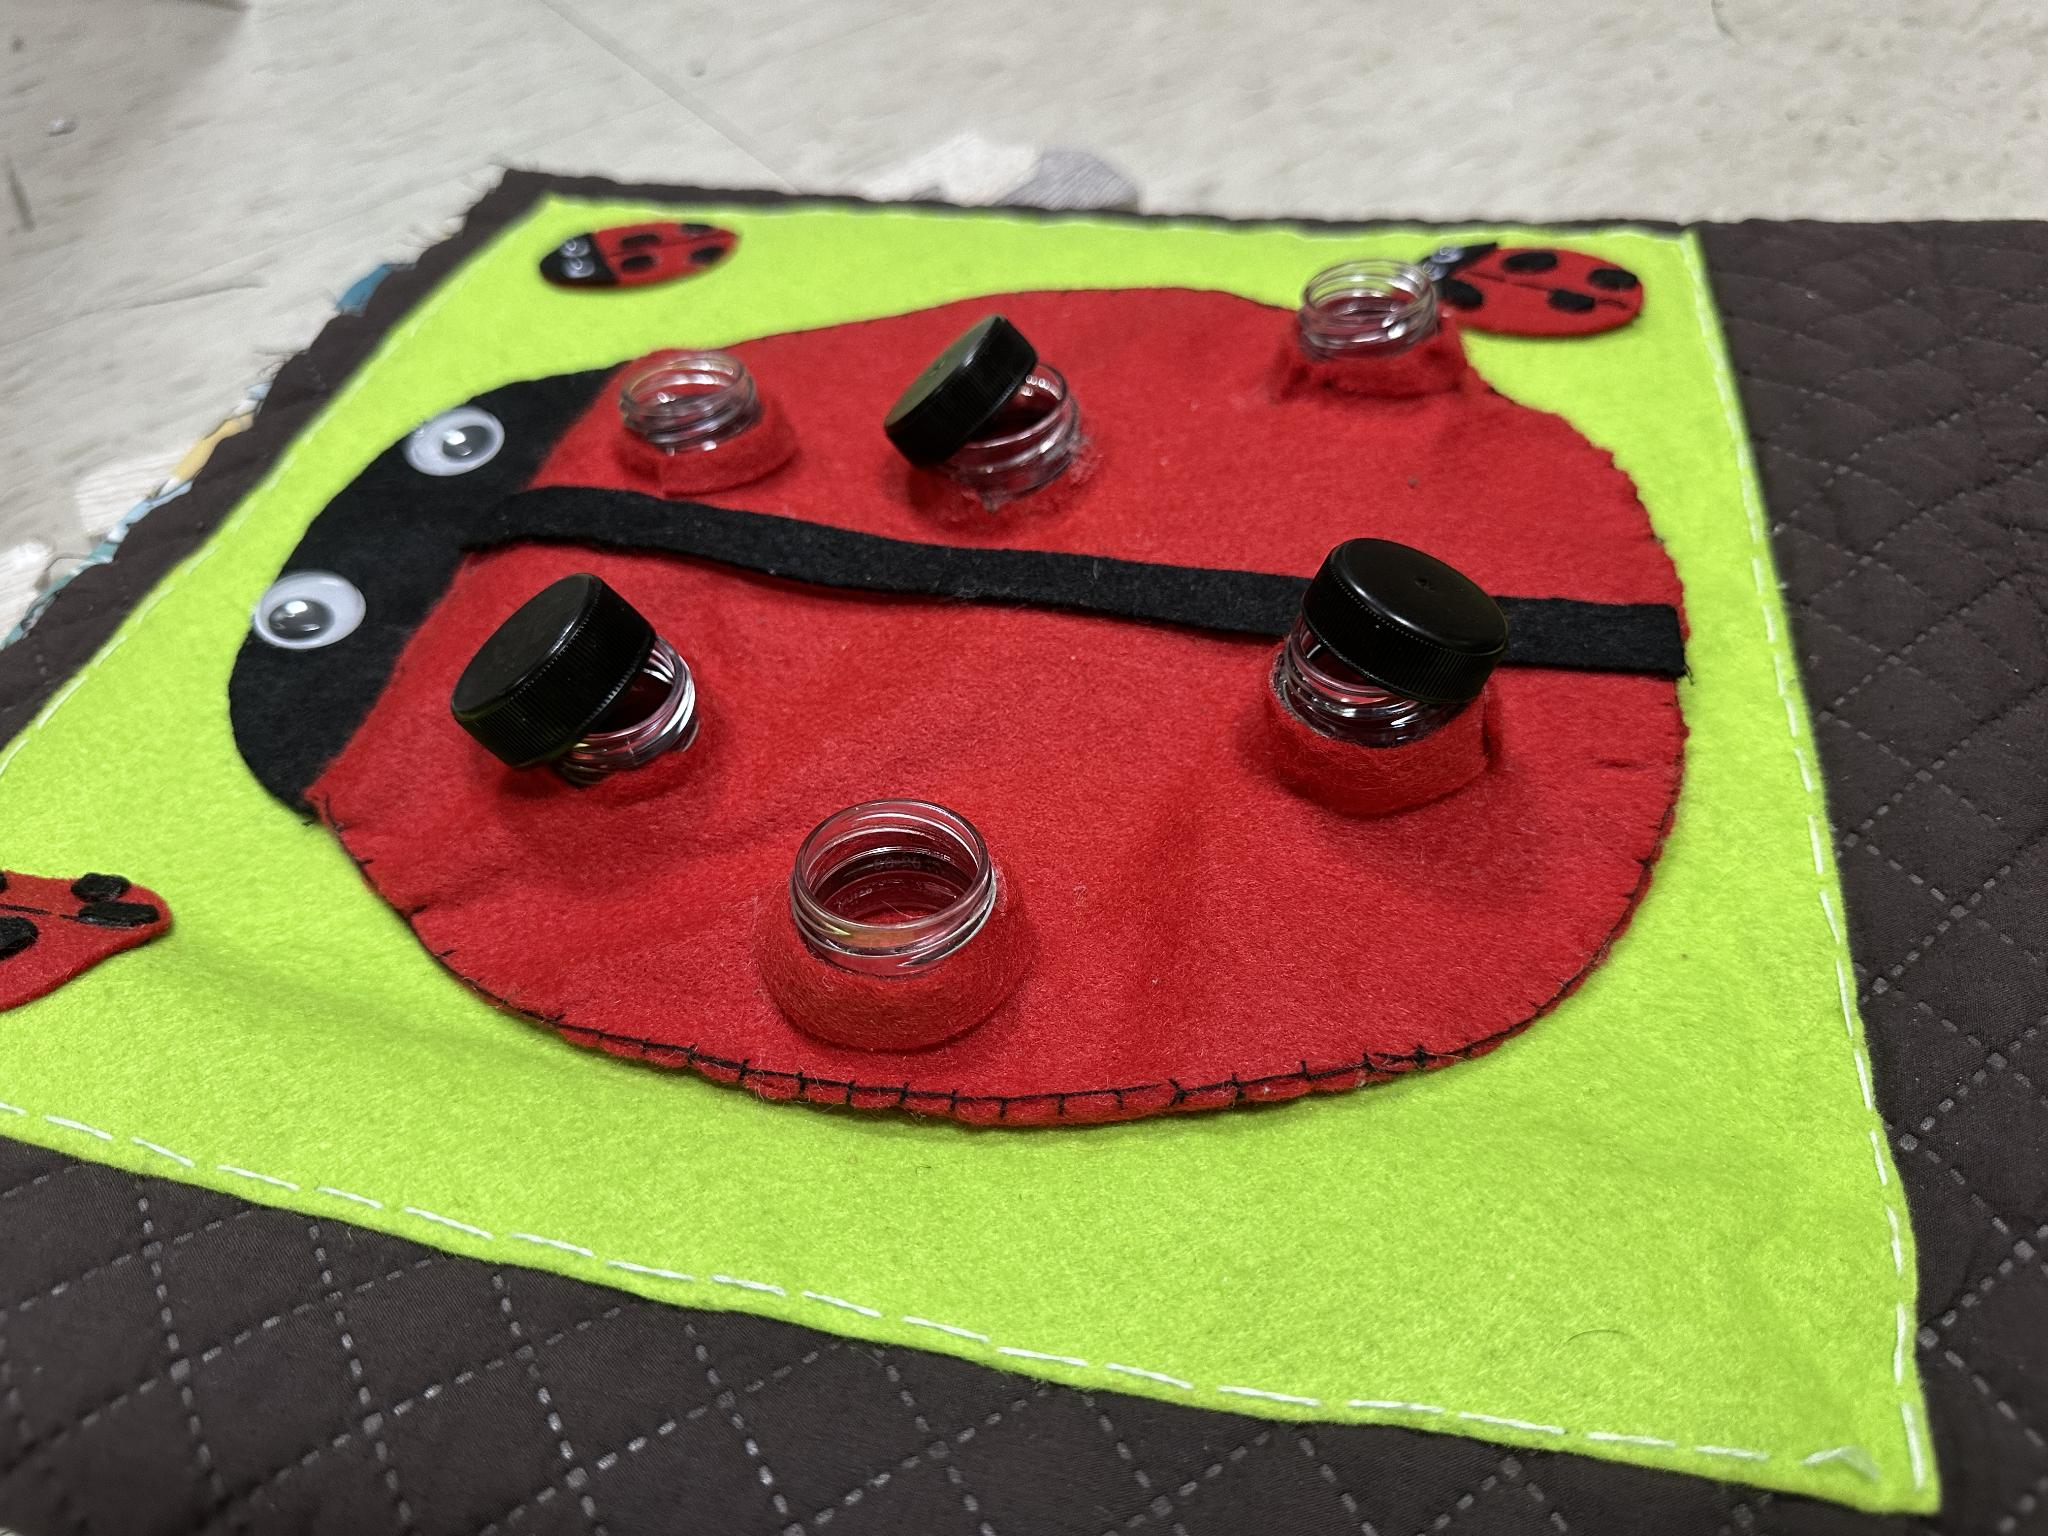cap_ng: (1256, 515, 1530, 842), (450, 570, 727, 815), (889, 303, 1119, 536)
